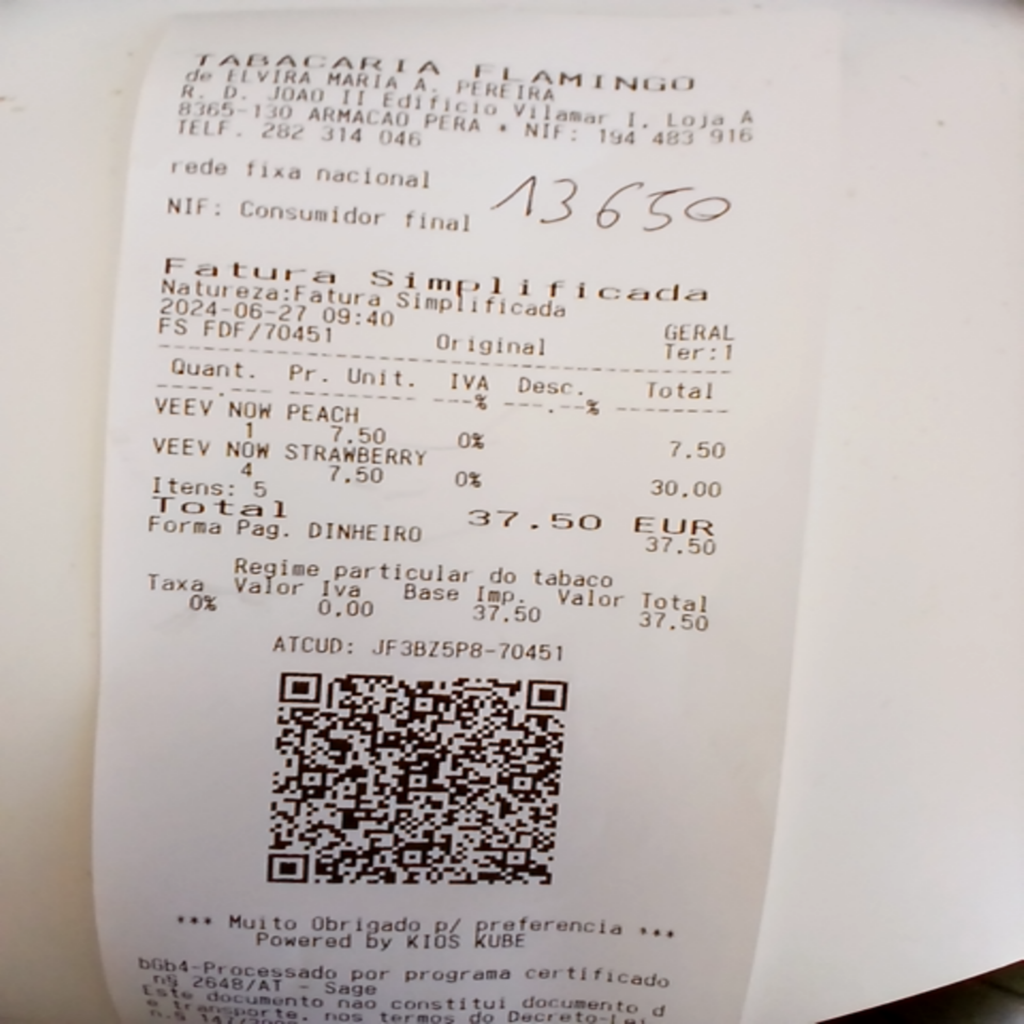recipt: (97, 38, 844, 1016)
